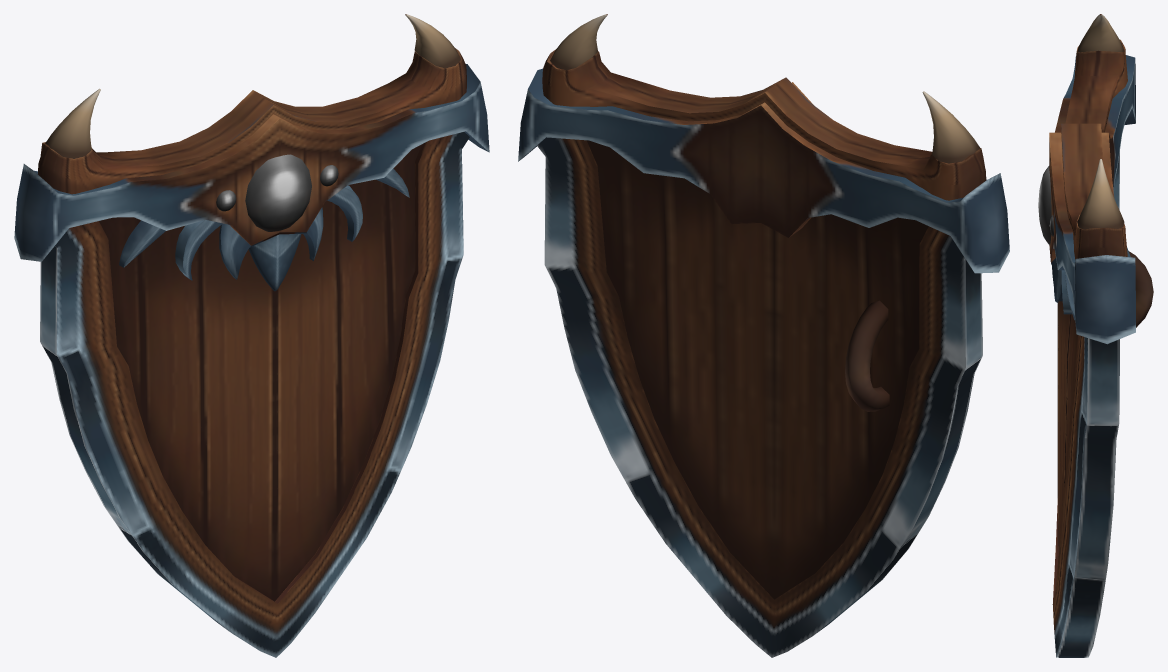
The model's file is SM_Shield.fbx.
3 views of the same model, side by side, from view 1: azimuth 30°, elevation 25°; view 2: azimuth 150°, elevation 25°; view 3: azimuth 270°, elevation 25° (orthographic). The views are drawn at different scales.
Parts seen in each view (by area): view 1: Shield; view 2: Shield; view 3: Shield.
Boxes of the visible parts, bbox=[...] form: Shield: bbox=[14, 14, 489, 657]; Shield: bbox=[518, 14, 1009, 657]; Shield: bbox=[1038, 14, 1153, 657].
Size of the model in its own units: 0.6238 by 0.7667 by 0.1403.
